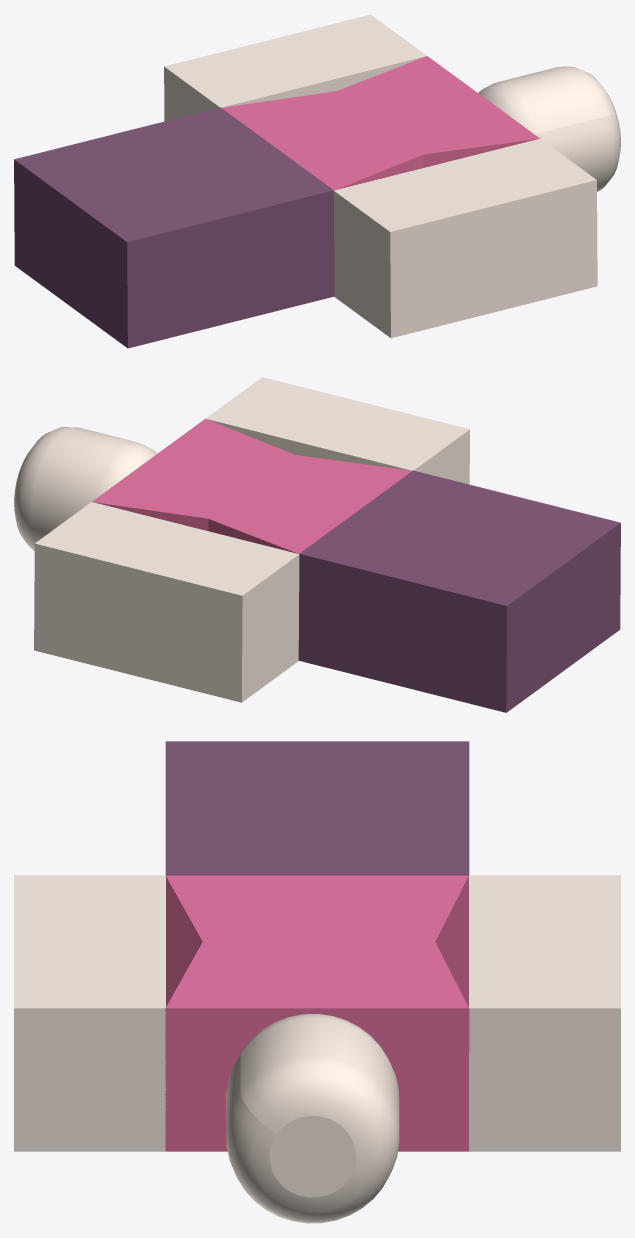
Rendered from player2.glb.
The picture shows the model from 3 angles, top to bottom: view 1: azimuth 30°, elevation 25°; view 2: azimuth 150°, elevation 25°; view 3: azimuth 270°, elevation 25°; orthographic projection. The views are drawn at different scales.
Visible parts, largest first — view 1: Cube.003, Cube.002, Cube.001, Cube.004, Cube, Object_4; view 2: Cube, Cube.004, Cube.001, Cube.003, Cube.002, Object_4; view 3: Cube.001, Cube, Cube.002, Object_4, Cube.004, Cube.003.
Part boxes in pixels (<box>): Cube.003: <box>70,149,334,348</box>; Cube.002: <box>333,138,597,338</box>; Cube.001: <box>221,56,539,190</box>; Cube.004: <box>14,107,276,306</box>; Cube: <box>164,14,426,121</box>; Object_4: <box>478,66,620,191</box>; Cube: <box>34,502,299,702</box>; Cube.004: <box>298,512,563,712</box>; Cube.001: <box>92,418,412,553</box>; Cube.003: <box>356,470,620,670</box>; Cube.002: <box>206,377,469,484</box>; Object_4: <box>14,427,157,550</box>; Cube.001: <box>165,875,469,1151</box>; Cube: <box>469,875,620,1151</box>; Cube.002: <box>14,875,165,1151</box>; Object_4: <box>226,1014,399,1223</box>; Cube.004: <box>317,741,469,875</box>; Cube.003: <box>165,741,317,875</box>.
Bounding box in the file's own units: 1.99 × 0.4384 × 1.48.
